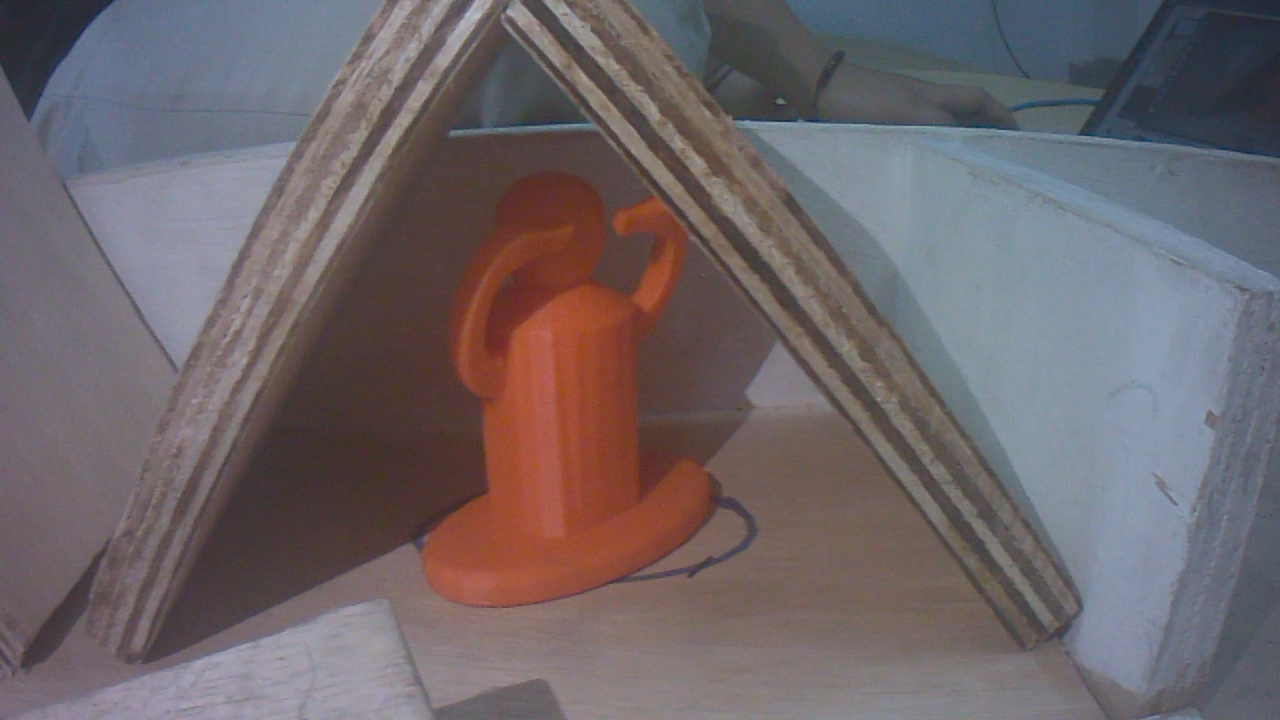real: (432, 184, 721, 606)
